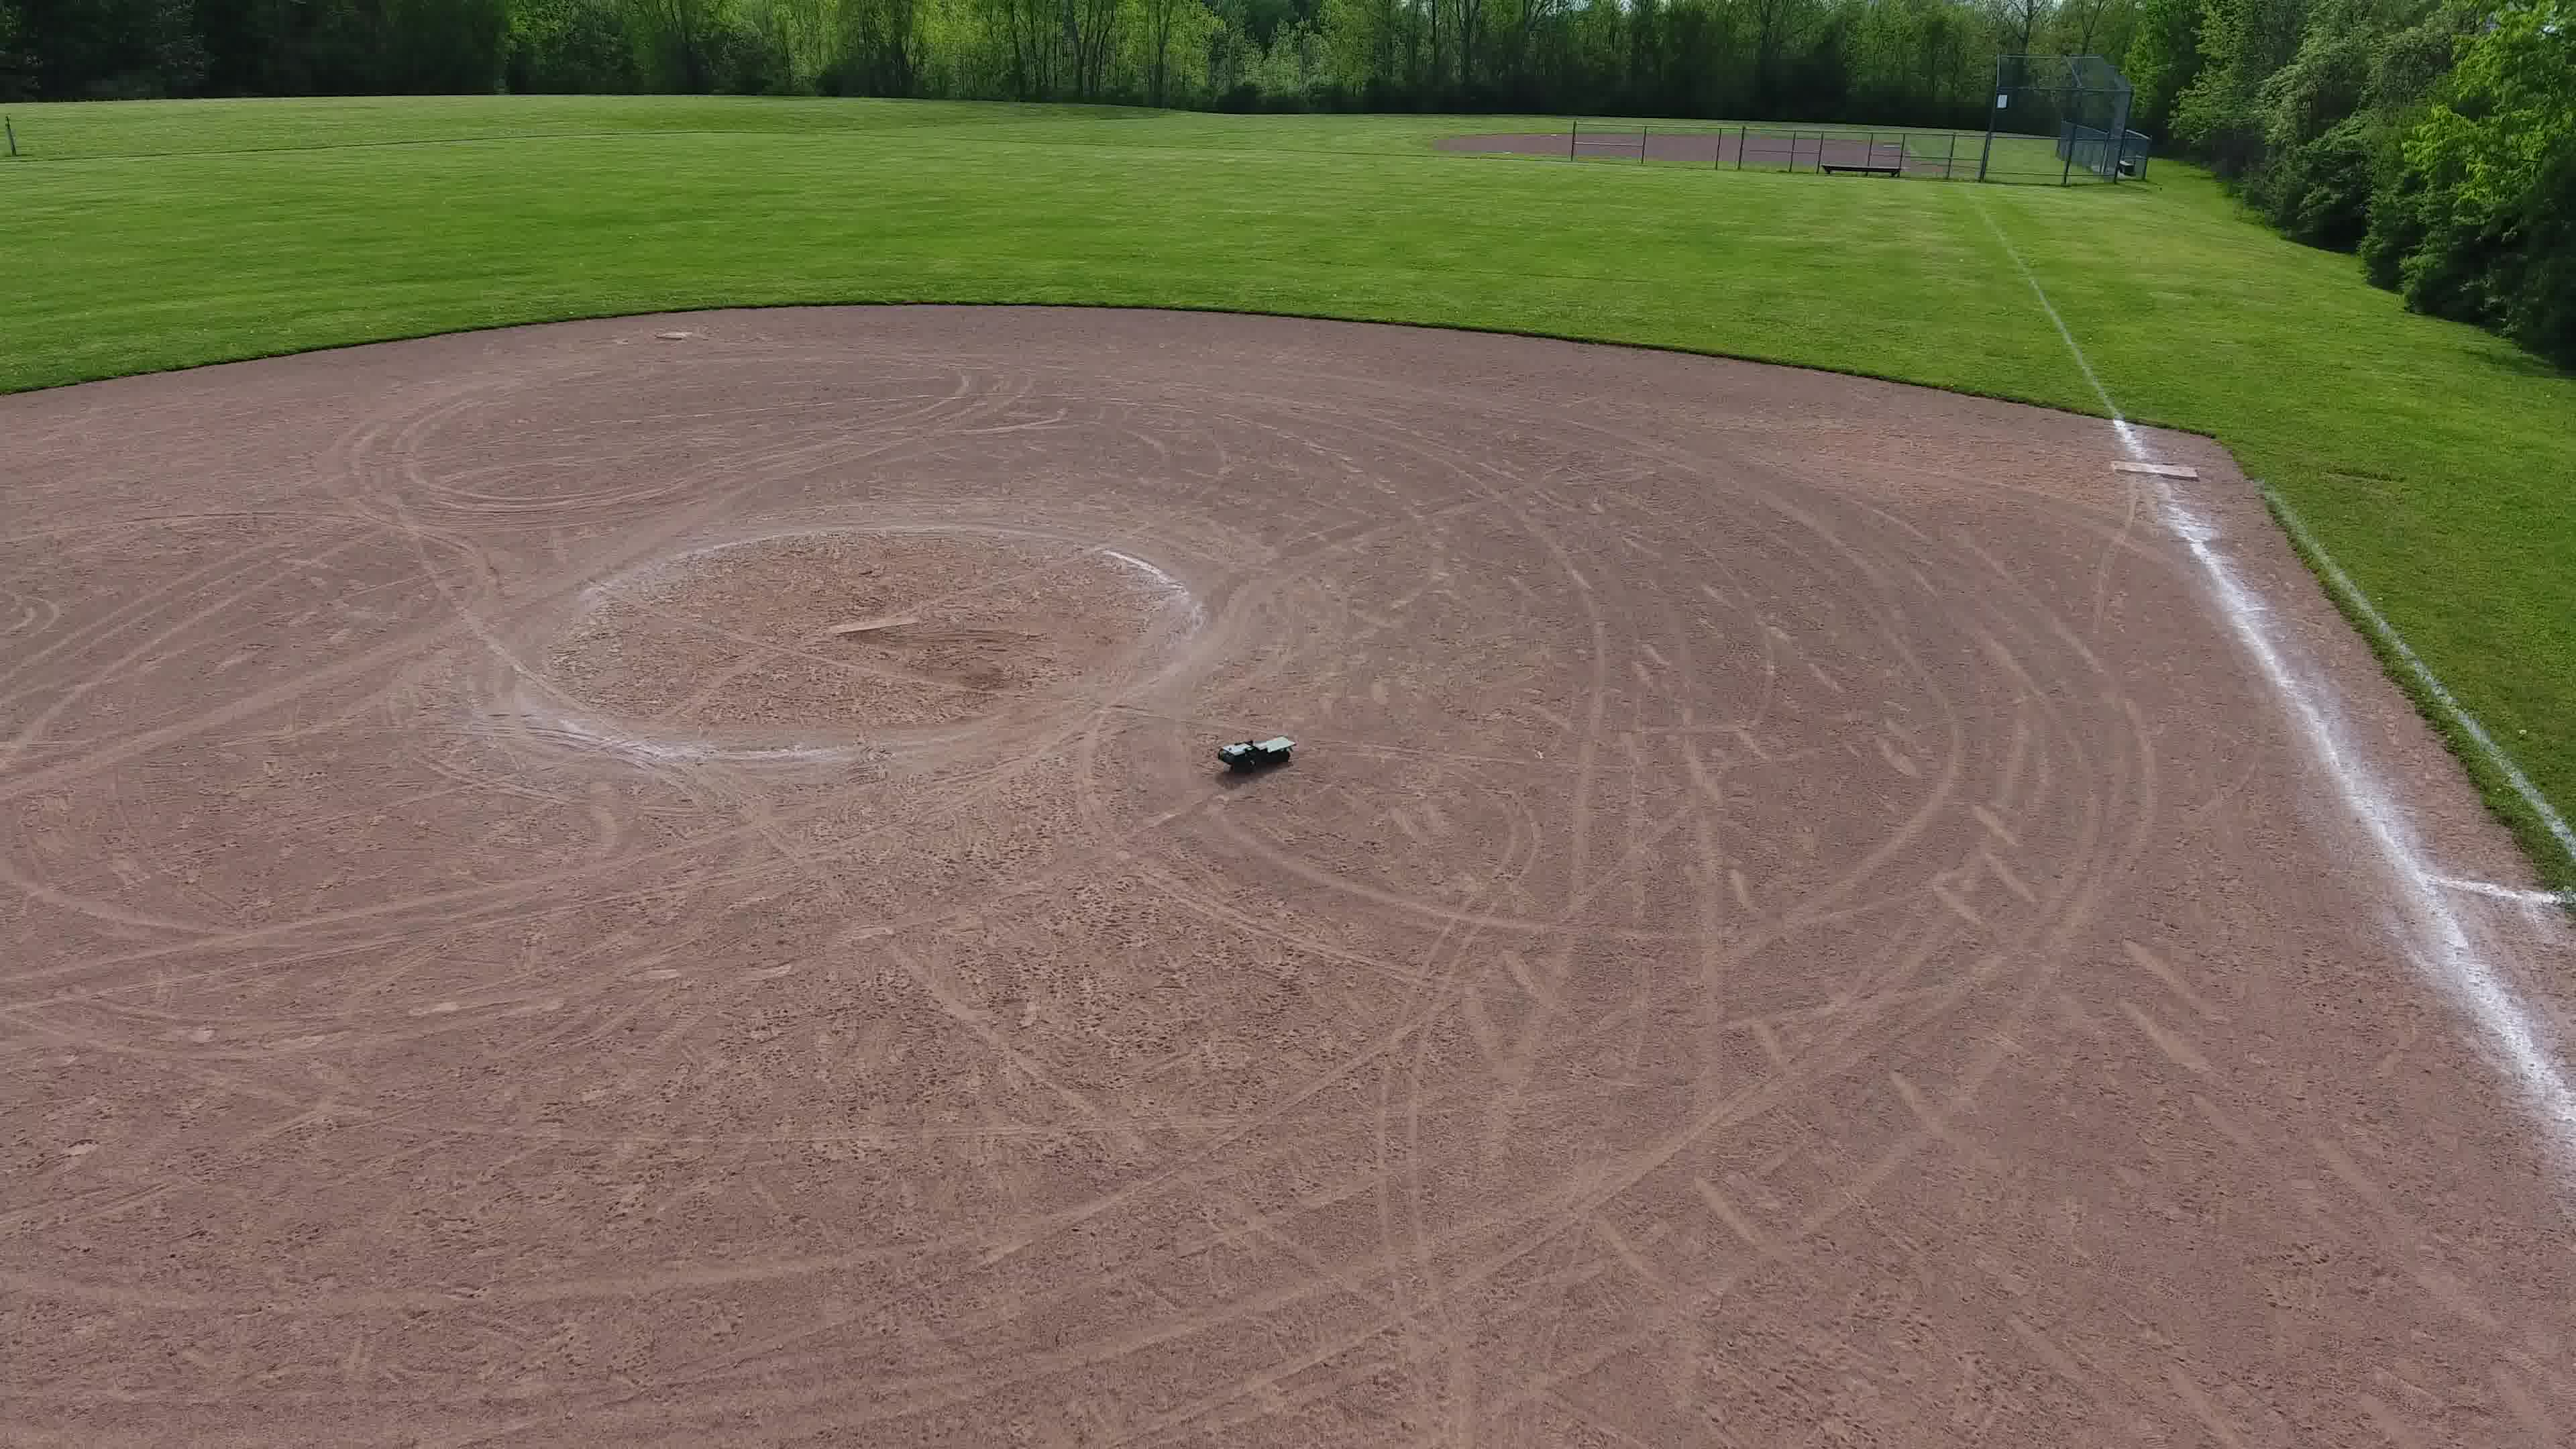transporter9: (1214, 729, 1299, 775)
